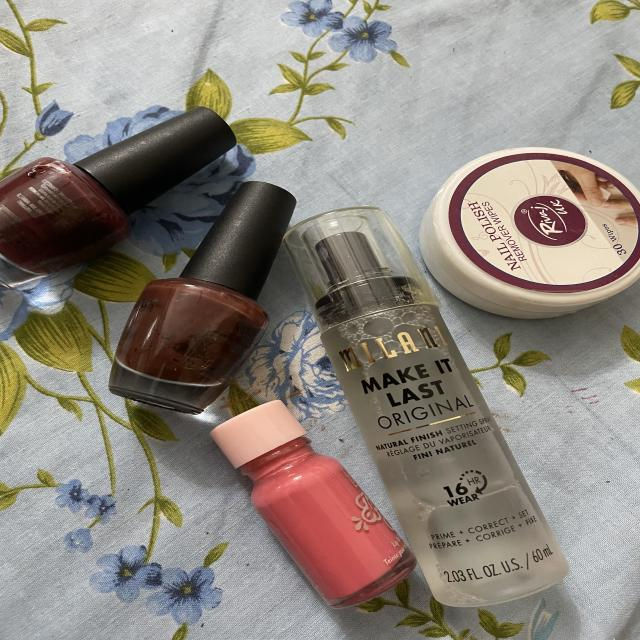Tint: (180, 385, 426, 614)
nail polish: (82, 161, 306, 414), (0, 87, 246, 276)
nail polish remover: (424, 139, 640, 328)
